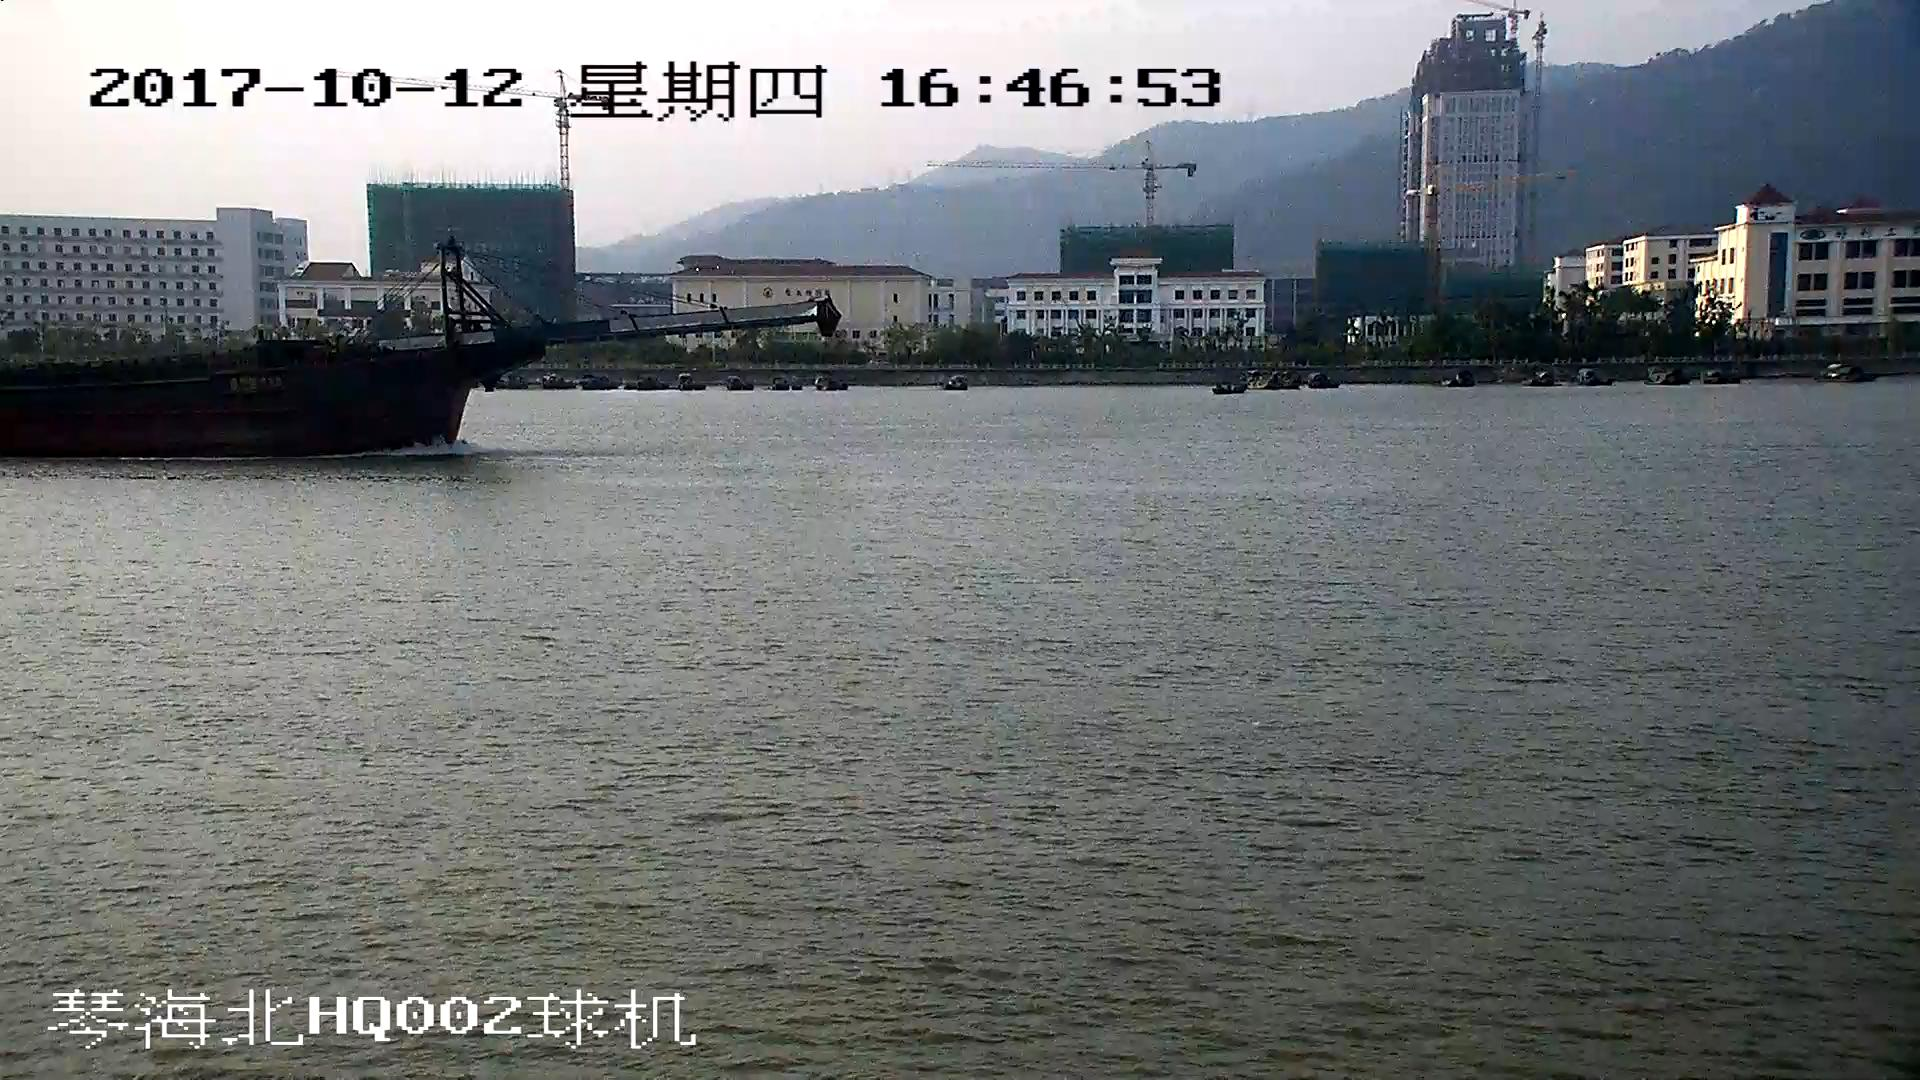bulk cargo carrier: (1, 230, 829, 457)
